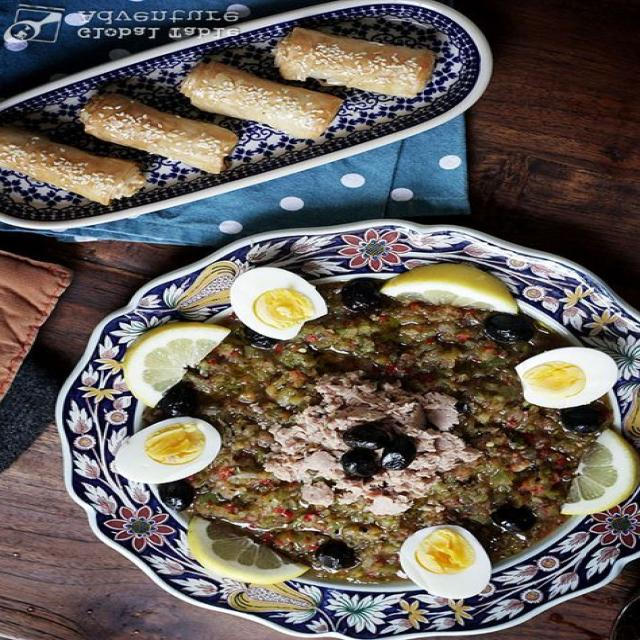Salade mechweya: (82, 228, 640, 639)
